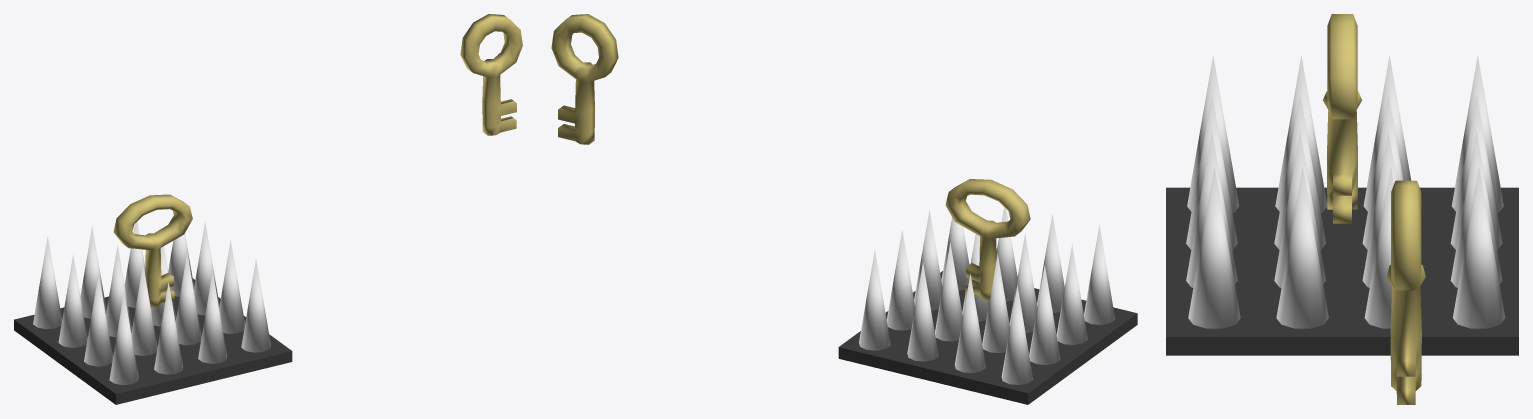
Rendered from Key_NEW.fbx.
3 views of the same model, side by side, from view 1: azimuth 30°, elevation 25°; view 2: azimuth 150°, elevation 25°; view 3: azimuth 270°, elevation 25° (orthographic). The views are drawn at different scales.
Parts seen in each view (by area): view 1: Cube, Cylinder.000, Cylinder.002, Cone.015, Cone.014, Cone.004, Cone.001, Cone.007, Cone.010, Cone.009, Cone.006, Cone.013 (+6 smaller); view 2: Cube, Cylinder.000, Cylinder.002, Cone, Cone.014, Cone.007, Cone.001, Cone.004, Cone.002, Cone.003, Cone.005, Cone.011 (+7 smaller); view 3: Cube, Cylinder.000, Cylinder.002, Cone.006, Cone.015, Cone, Cone.005, Cone.007, Cone.014, Cone.001, Cone.013, Cone.009 (+7 smaller).
Part boxes in pixels (x1,y1,x2,y2): Cube: (14, 278, 292, 404); Cylinder.000: (460, 14, 522, 135); Cylinder.002: (113, 194, 192, 308); Cone.015: (241, 259, 270, 352); Cone.014: (109, 292, 138, 385); Cone.004: (58, 254, 87, 347); Cone.001: (33, 236, 62, 329); Cone.007: (84, 274, 112, 366); Cone.010: (198, 272, 227, 363); Cone.009: (154, 282, 182, 374); Cone.006: (219, 240, 244, 333); Cone.013: (131, 263, 157, 355); Cube: (838, 271, 1137, 404); Cylinder.000: (551, 14, 618, 144); Cylinder.002: (945, 179, 1030, 301); Cone: (859, 250, 890, 350); Cone.014: (1084, 224, 1115, 324); Cone.007: (1056, 244, 1087, 344); Cone.001: (1001, 285, 1033, 384); Cone.004: (1029, 265, 1060, 364); Cone.002: (907, 262, 938, 361); Cone.003: (954, 274, 985, 373); Cone.005: (886, 230, 915, 330); Cone.011: (935, 242, 962, 341); Cube: (1166, 187, 1518, 355); Cylinder.000: (1386, 180, 1425, 404); Cylinder.002: (1322, 14, 1362, 223); Cone.006: (1276, 166, 1328, 328); Cone.015: (1188, 166, 1240, 328); Cone: (1453, 166, 1505, 328); Cone.005: (1364, 166, 1393, 328); Cone.007: (1275, 55, 1327, 212); Cone.014: (1187, 55, 1239, 212); Cone.001: (1452, 55, 1503, 212); Cone.013: (1274, 93, 1325, 249); Cone.009: (1186, 94, 1237, 249).
Size of the model in its own units: 536 by 248 by 200.
